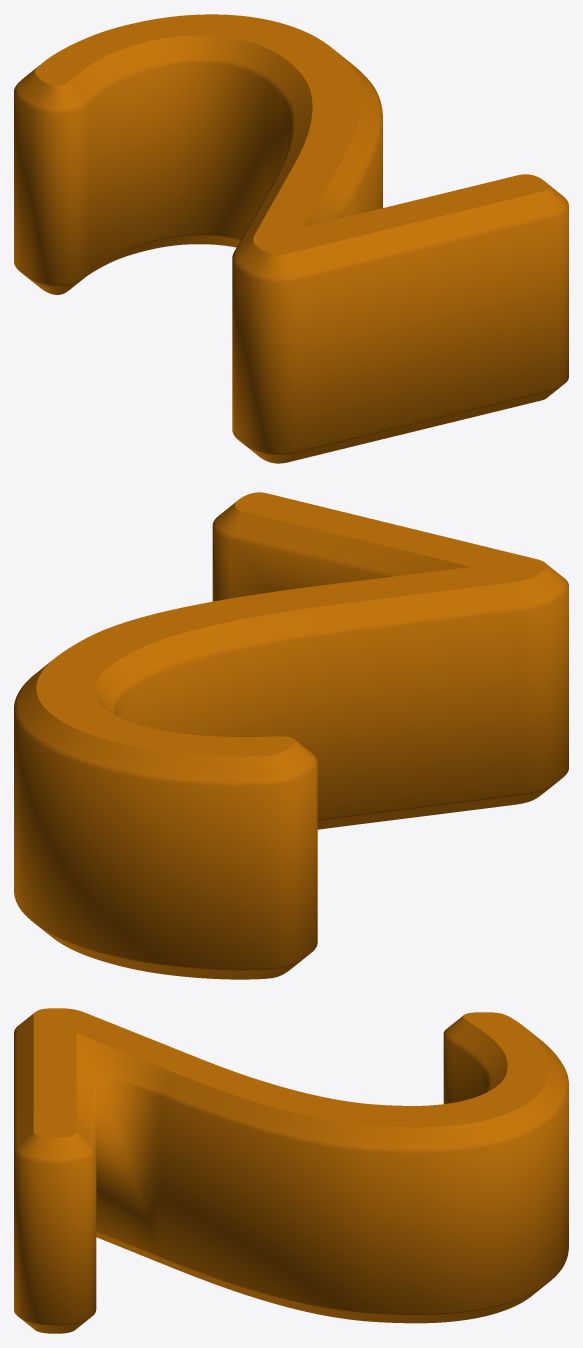
The model's file is two.obj.
3 views of the same model, one above another, from view 1: azimuth 30°, elevation 25°; view 2: azimuth 150°, elevation 25°; view 3: azimuth 270°, elevation 25° (orthographic). The views are drawn at different scales.
Visible parts, largest first — view 1: suji; view 2: suji; view 3: suji.
Boxes of the visible parts, x1,y1,x2,y2 form: suji: (14,14,568,463); suji: (14,492,568,979); suji: (14,1008,568,1333).
Bounding box in the file's own units: 0.3516 × 0.22 × 0.5644.
1 material, 1 textured.
